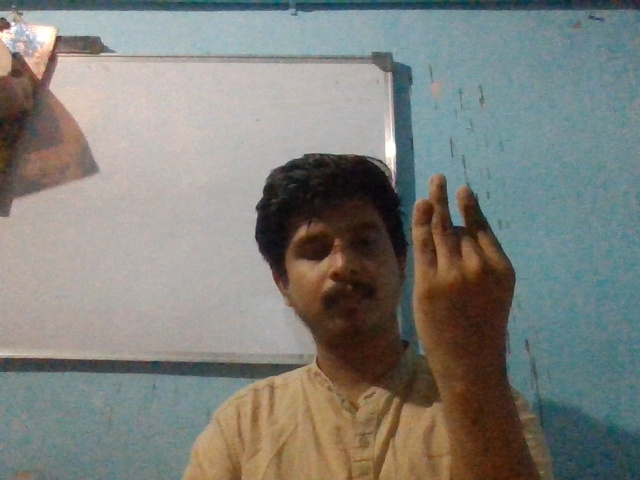Akash: (378, 163, 532, 361)
